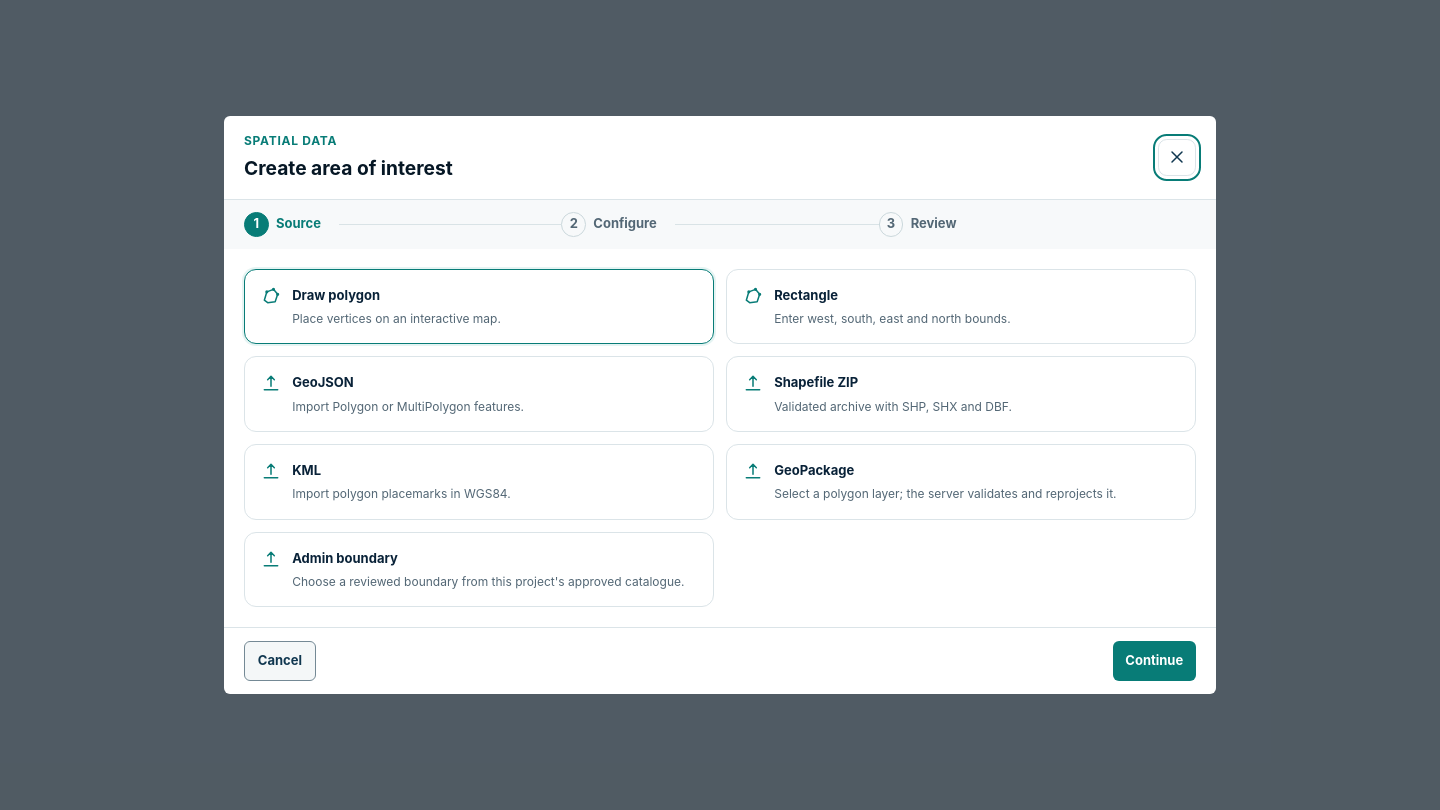
AOI creation wizard › shows project-scoped empty and error states without selecting a boundary
Click the button "Admin boundary": x=345, y=558 [244,532,714,607]
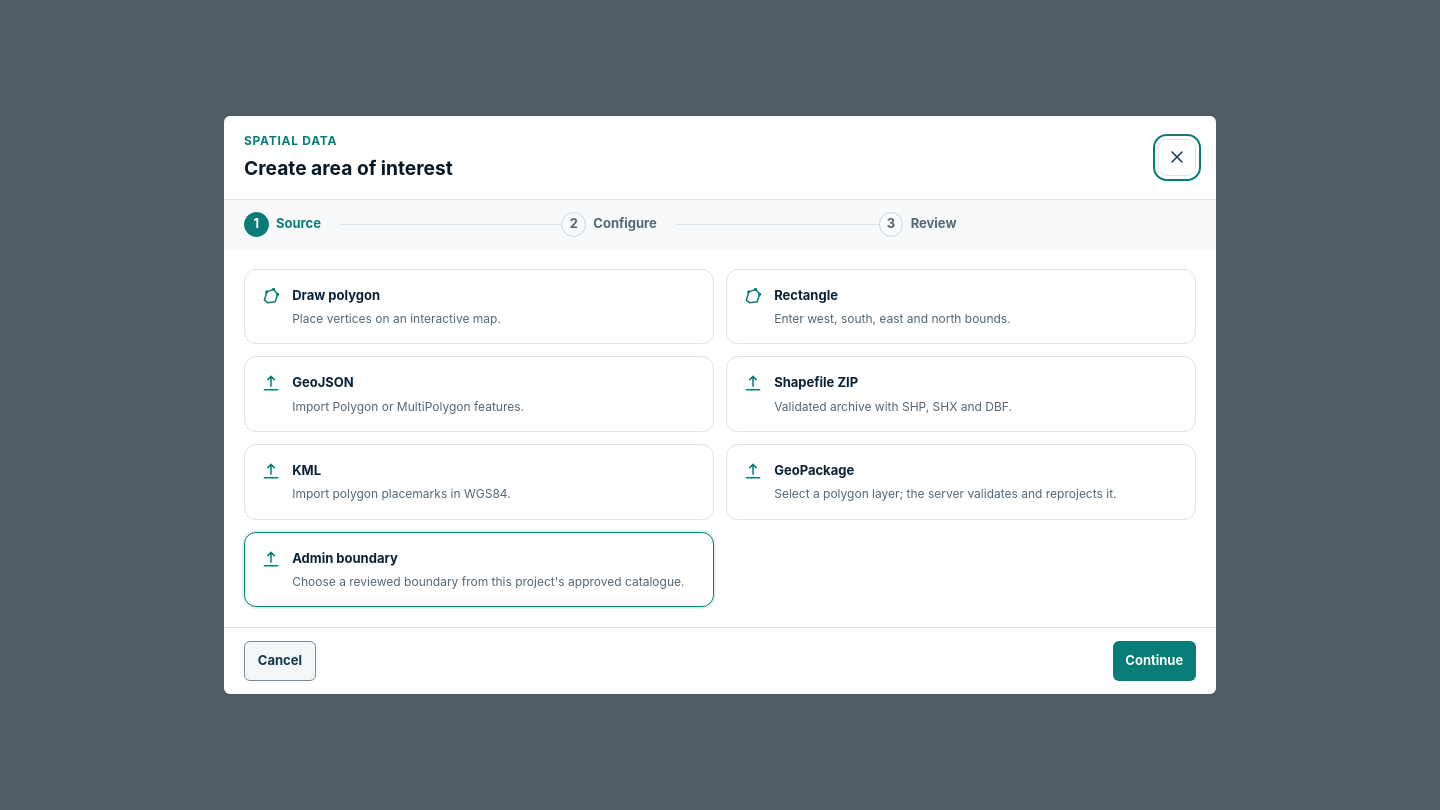
Click the button "Continue": x=1154, y=661 [1112,641,1196,681]
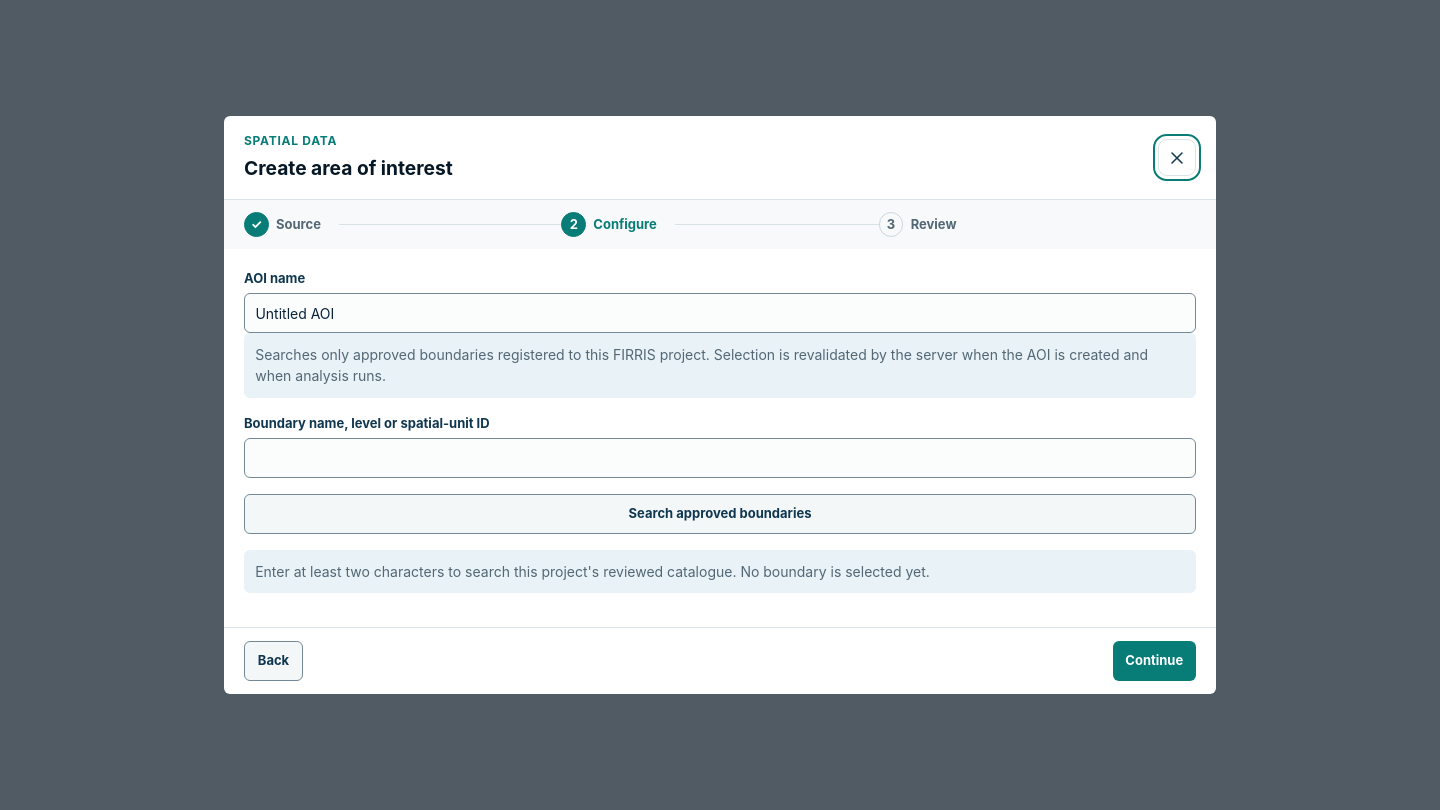
Click the button "Continue": x=1154, y=661 [1112,641,1196,681]
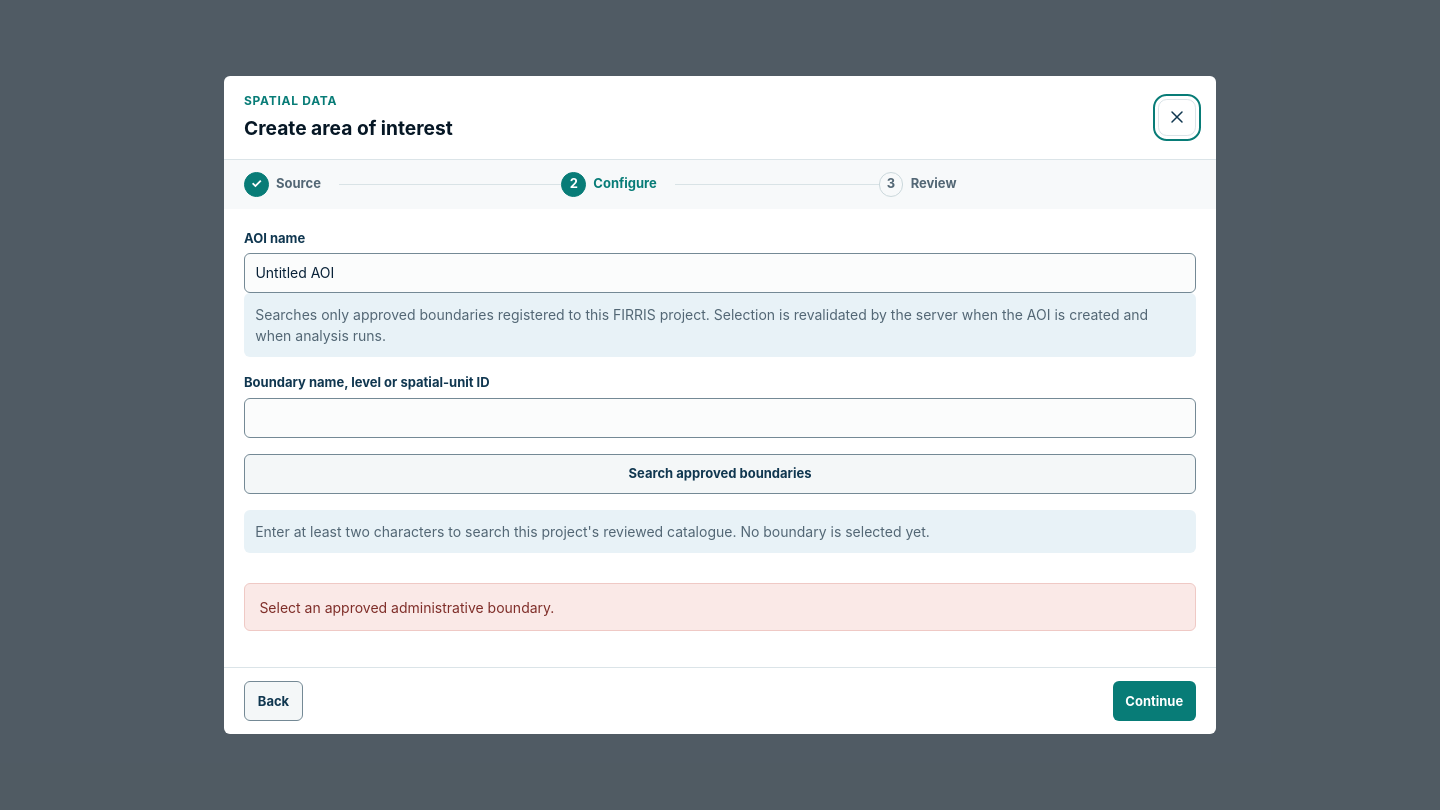
Expected: the message shows "Select an approved administrative boundary", [259,599,554,616]
In the field named "Search administrative boundaries": x=720, y=418 [244,398,1196,438], type "Alpha"
Click the button "Search approved boundaries": x=720, y=474 [244,454,1196,494]
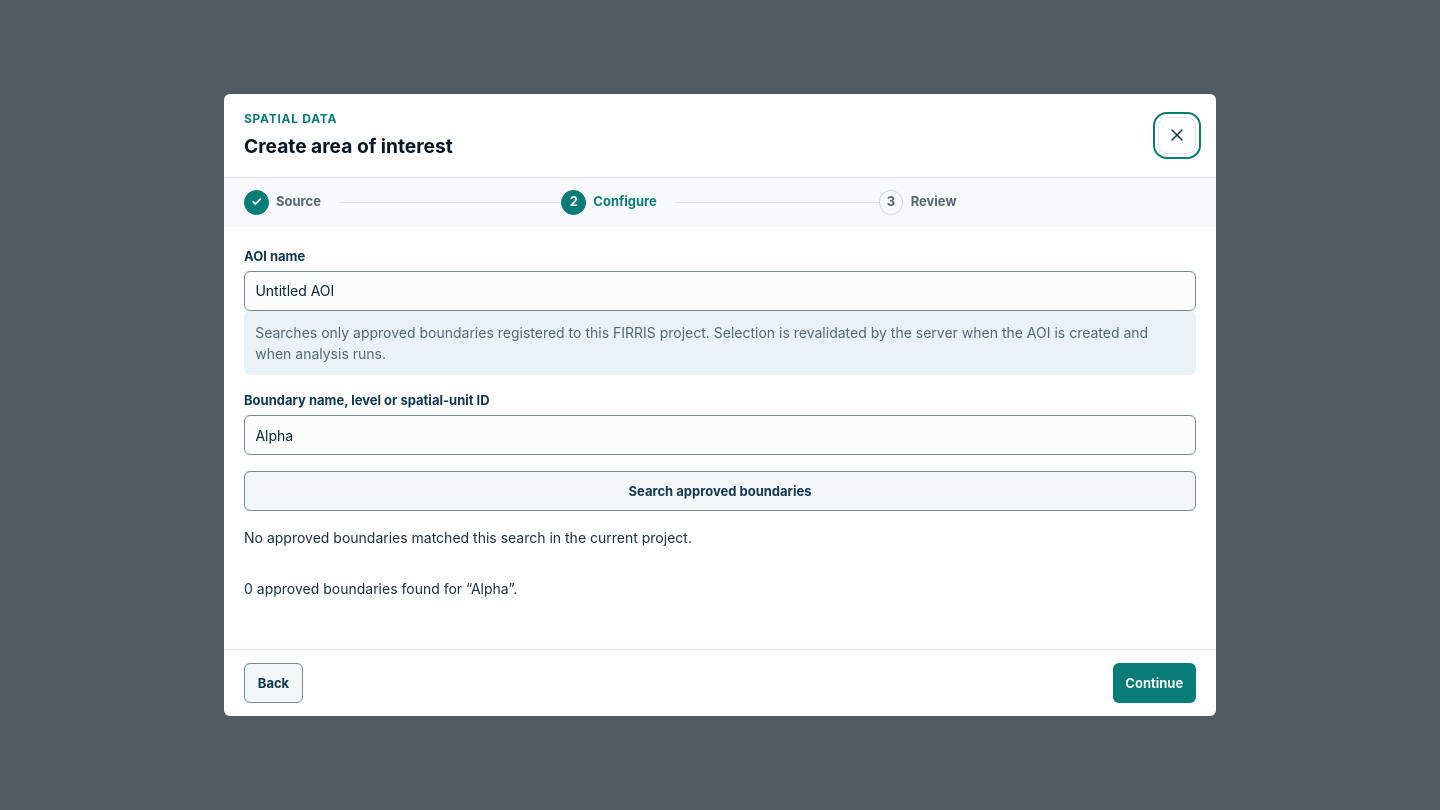
Expected: the text "No approved boundaries matched this search in the current project." is shown, [244,530,692,546]
Replace the text in the field named "Search administrative boundaries" with "Bravo": x=720, y=436 [244,416,1196,456]
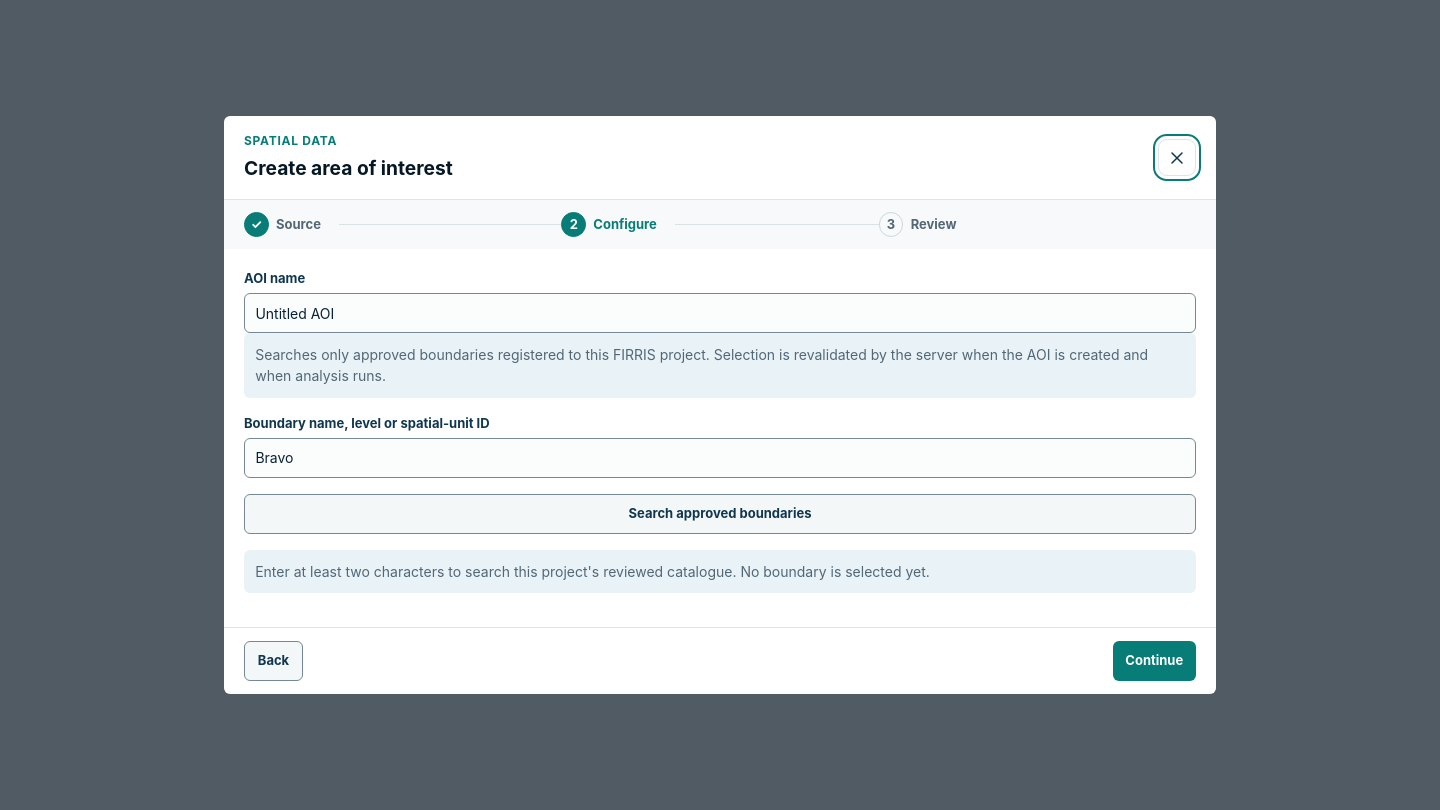
Click the button "Search approved boundaries": x=720, y=514 [244,494,1196,534]
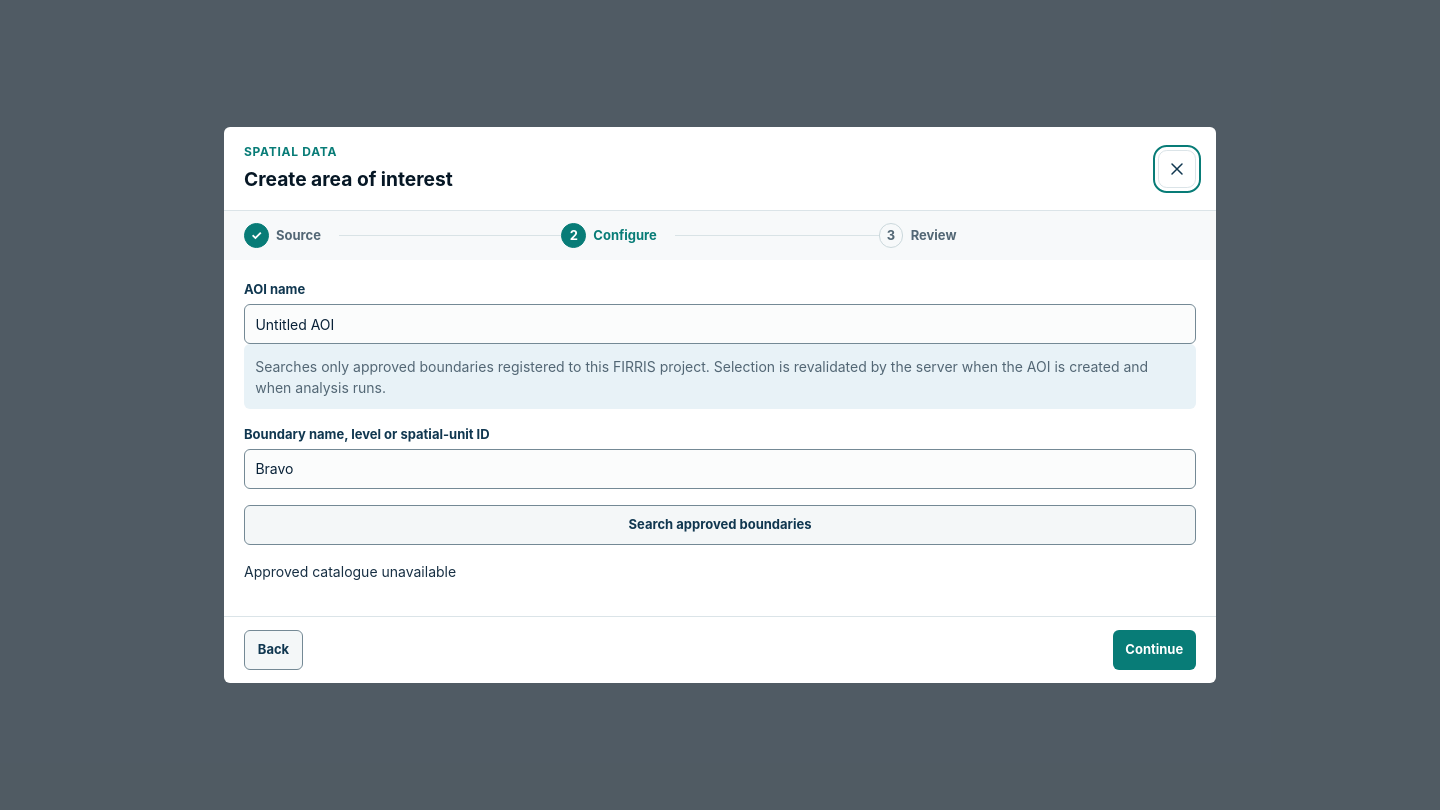
Expected: the text "Approved catalogue unavailable" is shown, [244,563,456,580]
